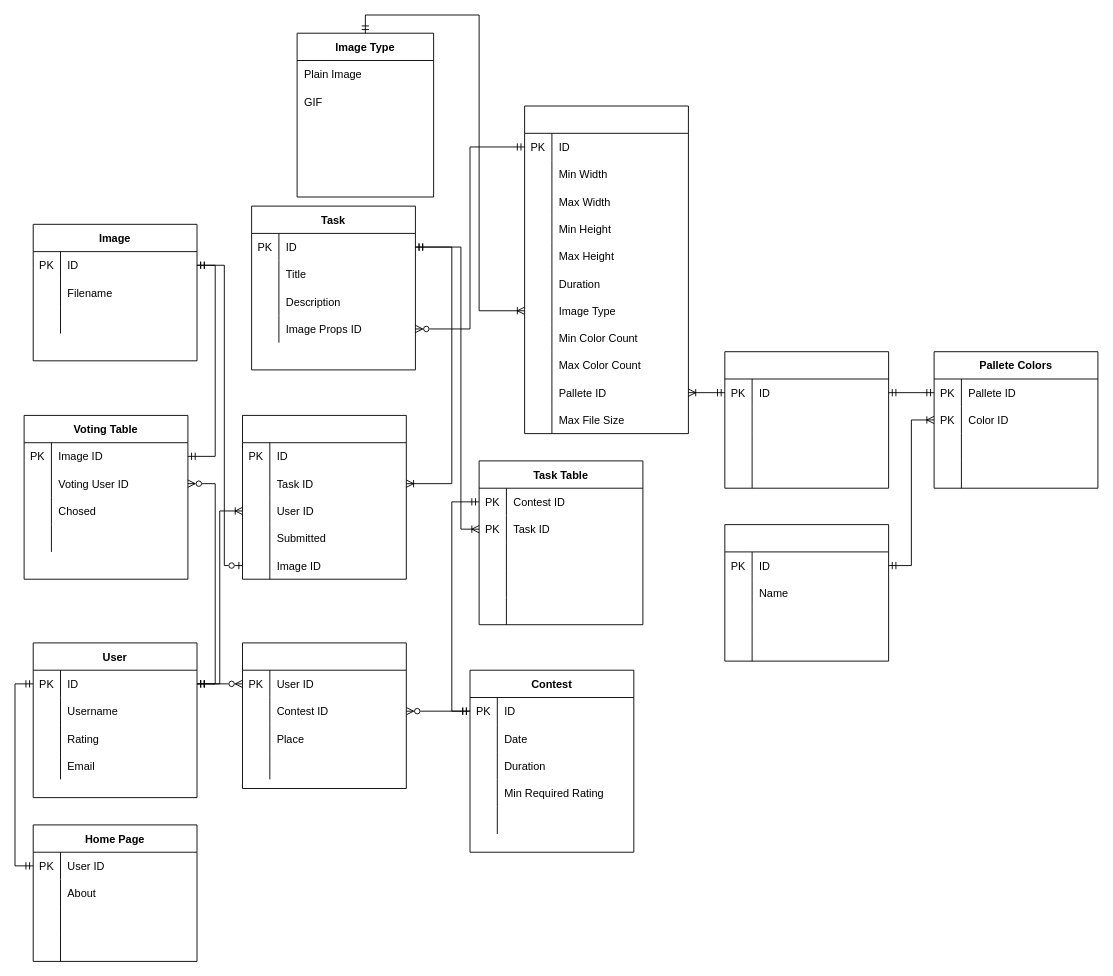
Image size: 1113x976. Some labels were removed from this diagram. Here are the shapes that lost their labels. From the top down, the box of each, then its label:
(524, 105, 688, 434): Image Properties
(724, 351, 889, 488): Pallete
(242, 415, 406, 579): Personal Task
(724, 524, 889, 661): Color
(242, 642, 406, 789): Contest Participation
